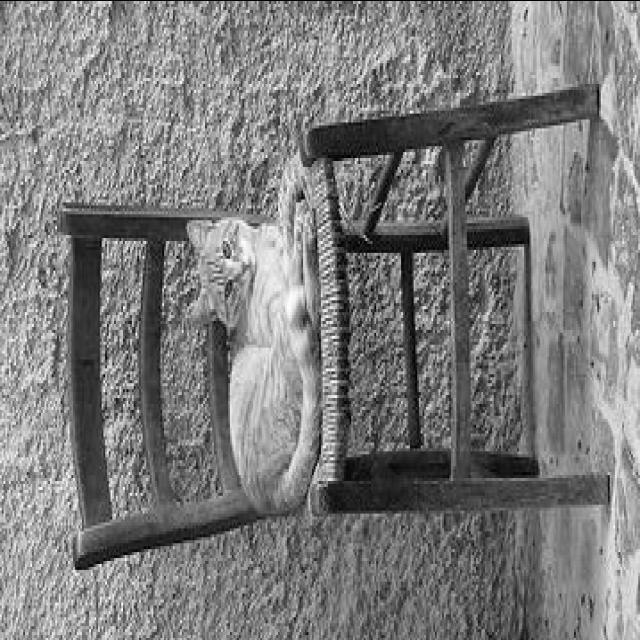chair: (56, 66, 604, 574)
